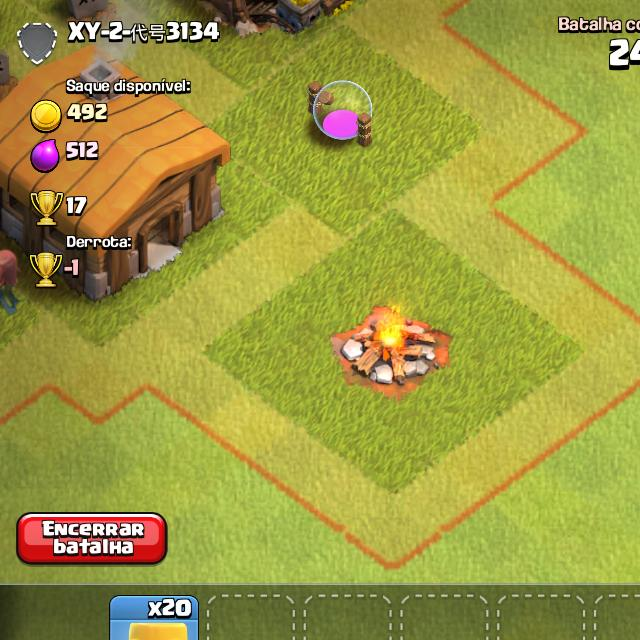ValueCoin: (66, 100, 118, 127)
ValueElixir: (61, 134, 110, 164)
